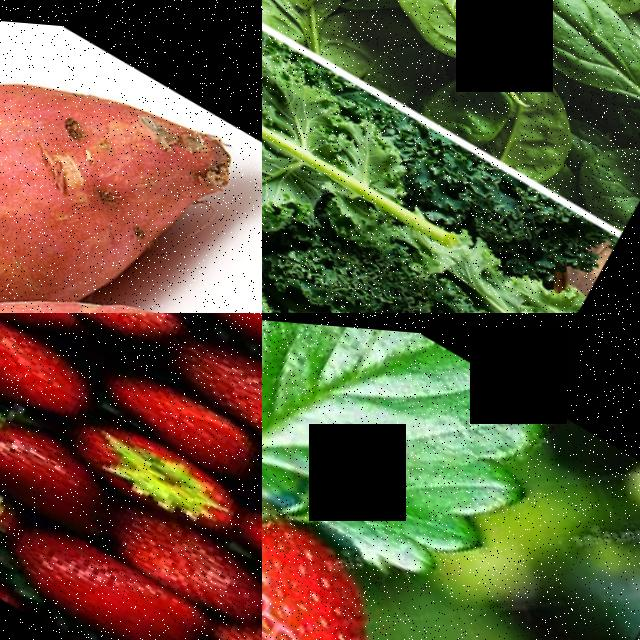spinach: (462, 0, 640, 106), (343, 0, 531, 67)
strawberry: (0, 504, 224, 640), (67, 401, 256, 545), (262, 479, 416, 640), (91, 349, 262, 484), (0, 373, 133, 543), (158, 313, 262, 460), (0, 313, 105, 432), (206, 593, 262, 640)
sweet potato: (0, 8, 248, 313), (0, 179, 223, 313)
